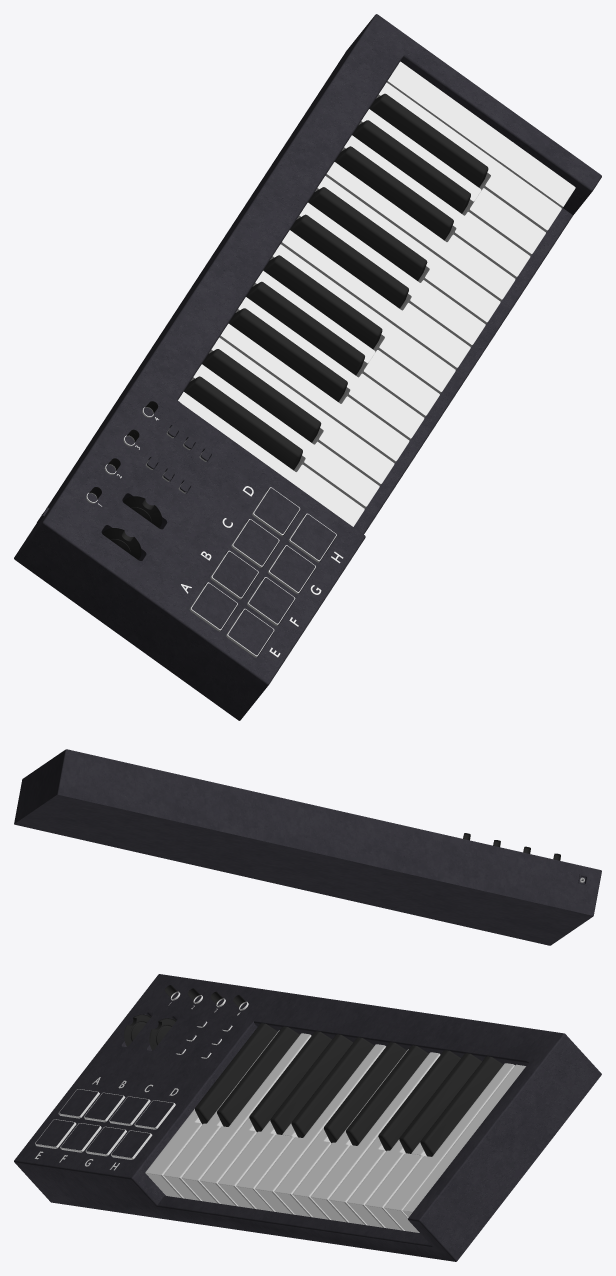
The model's file is midi.glb.
The picture shows the model from 3 angles, top to bottom: view 1: azimuth 30°, elevation 25°; view 2: azimuth 150°, elevation 25°; view 3: azimuth 270°, elevation 25°; orthographic projection. The views are drawn at different scales.
Visible parts, largest first — view 1: base, keys, keysBlack, buttons2; view 2: base; view 3: base, keys, keysBlack, buttons2.
Boxes of the visible parts, <box> form: base: <box>14,14,601,720</box>; keys: <box>178,61,575,657</box>; keysBlack: <box>89,93,488,559</box>; buttons2: <box>86,407,336,657</box>; base: <box>14,749,601,945</box>; base: <box>14,974,601,1261</box>; keys: <box>35,1030,525,1232</box>; keysBlack: <box>124,985,503,1156</box>; buttons2: <box>35,991,248,1159</box>.
Bounding box in the file's own units: 0.7474 × 0.3951 × 0.595.
Materials: 5 (1 with a texture image).
